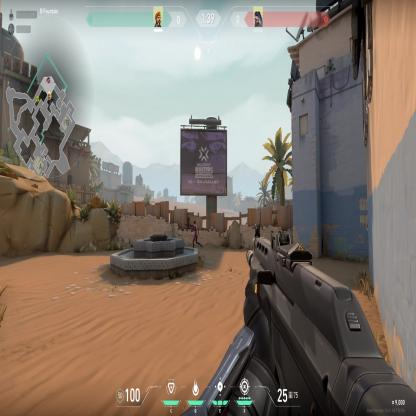enemy: (192, 220, 202, 251)
